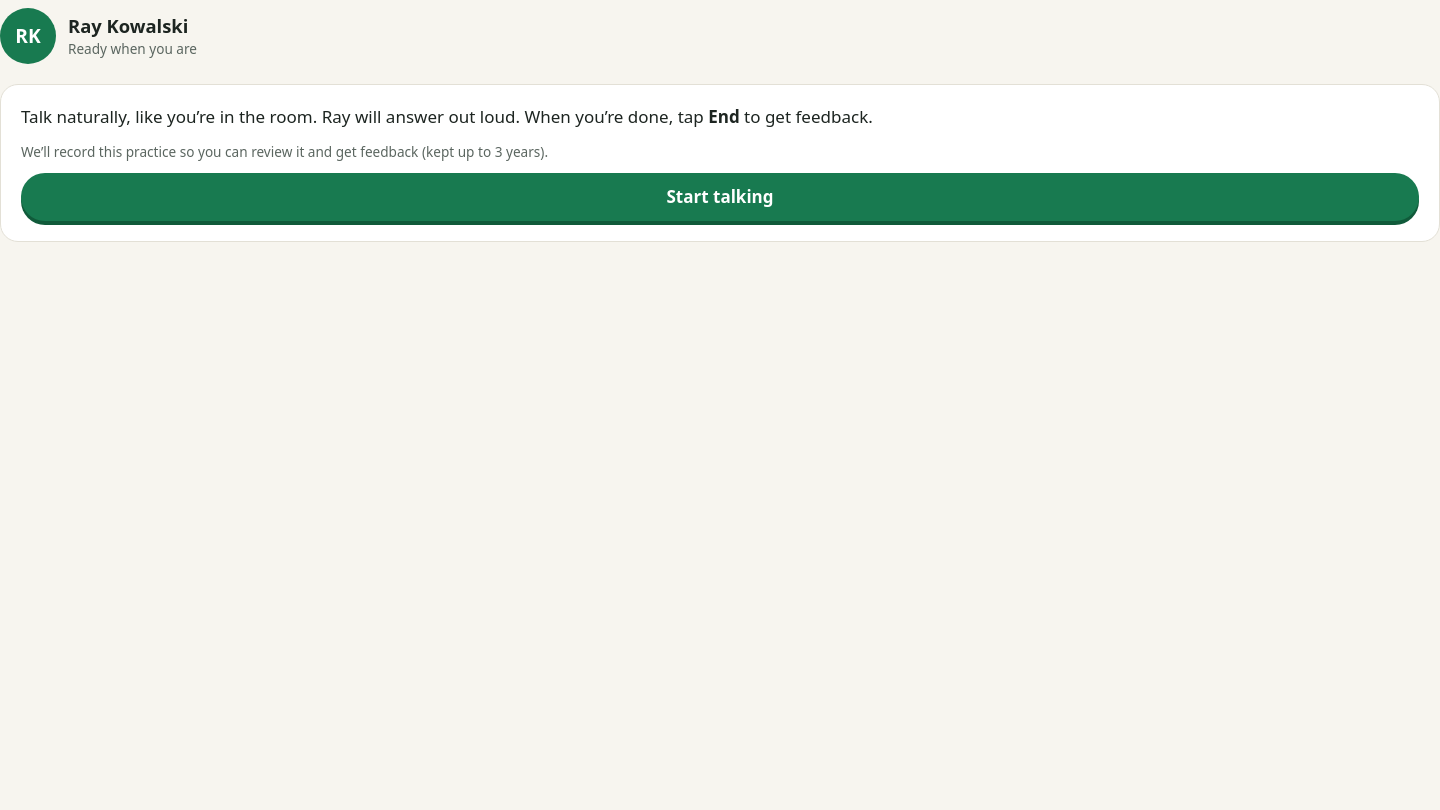
Test: conversation screen › the mic fails at the tap: the alert shows
Click the button "Start talking".
click(720, 197)  # box [21,173,1419,221]
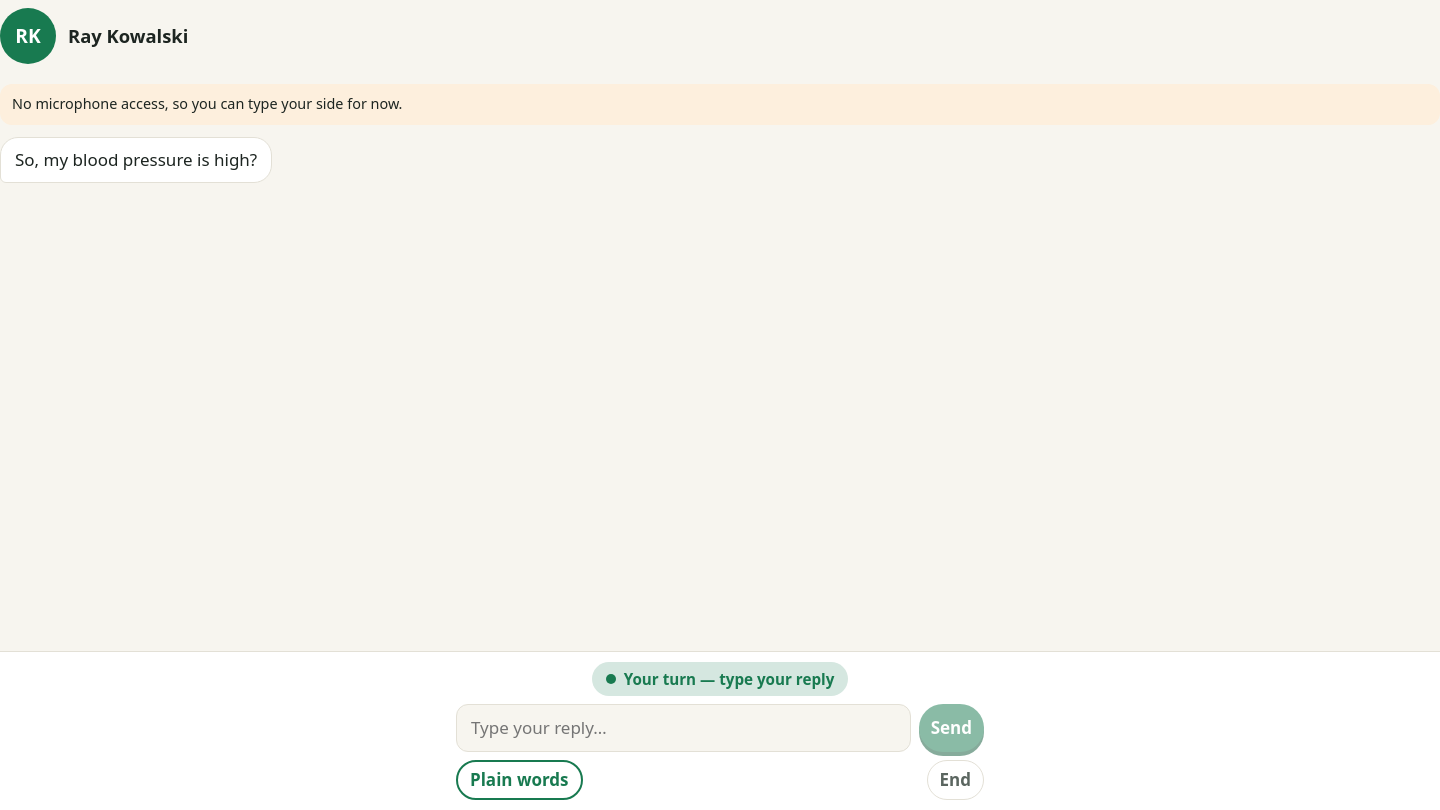
Now the text "No microphone access, so you can type your side for now." is shown, box [0,84,1439,125]
Now the field with placeholder "Type your reply…" is shown, box [456,704,911,752]
